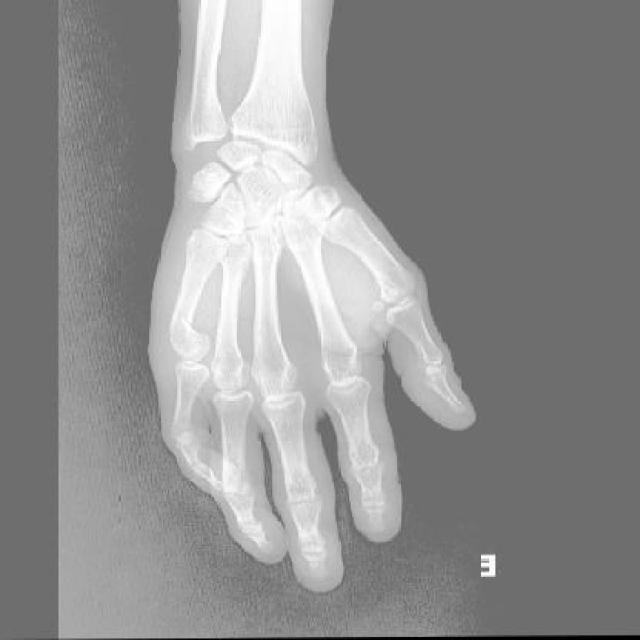Fracture: (162, 300, 205, 344)
